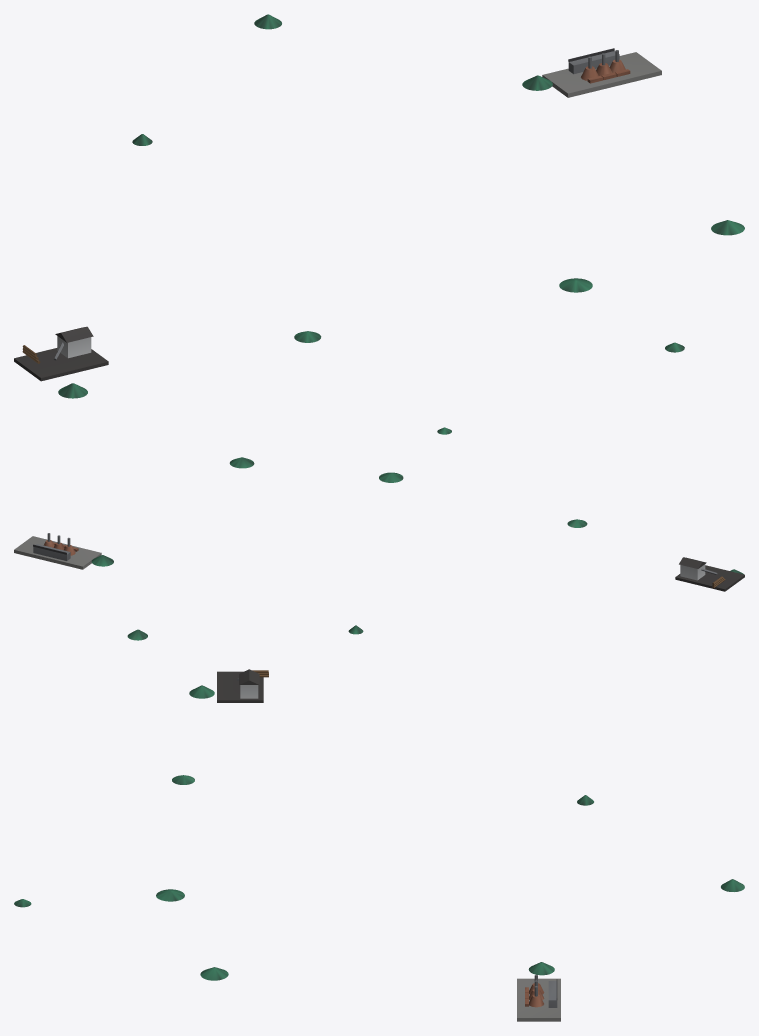
Rendered from Theme_P1.fbx.
3 views of the same model, one above another, from view 1: azimuth 30°, elevation 25°; view 2: azimuth 150°, elevation 25°; view 3: azimuth 270°, elevation 25° (orthographic). The views are drawn at different scales.
Parts seen in each view (by area): view 1: Theme.CokeOvens, Theme.Screens; view 2: Theme.CokeOvens, Theme.Screens; view 3: Theme.CokeOvens, Theme.Screens.
Part boxes in pixels (left/top/right/bottom): Theme.CokeOvens: left=542, top=48, right=661, bottom=97; Theme.Screens: left=14, top=326, right=108, bottom=381; Theme.CokeOvens: left=14, top=533, right=101, bottom=569; Theme.Screens: left=675, top=557, right=744, bottom=591; Theme.CokeOvens: left=517, top=974, right=560, bottom=1021; Theme.Screens: left=217, top=669, right=268, bottom=702.
Bounding box in the file's own units: 30500 × 1468 × 28185.
